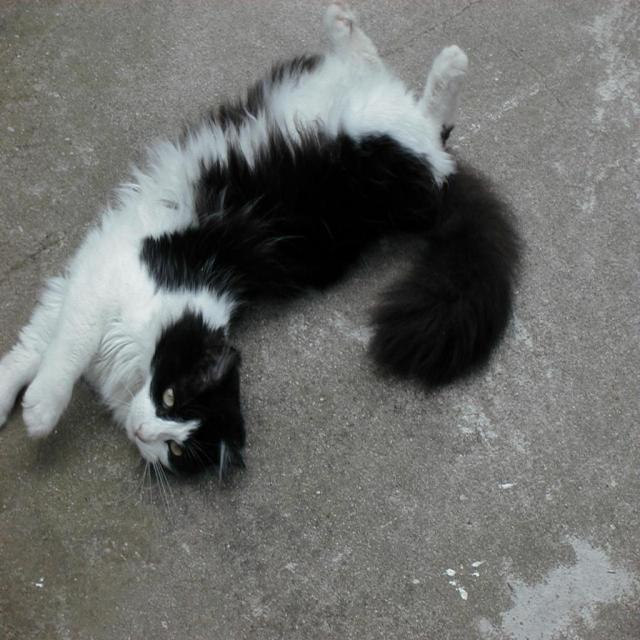Cat: (0, 0, 525, 517)
